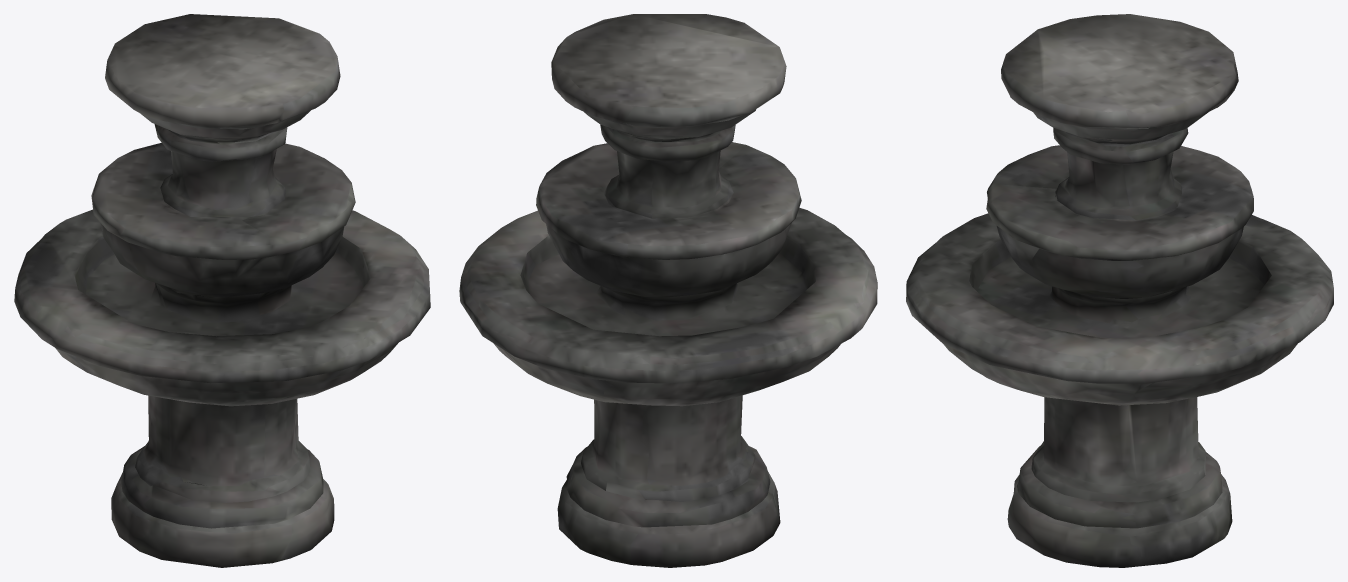
Rendered from weathered-granite-fountain-v001.glb.
3 renders of one model, left to right at view 1: azimuth 30°, elevation 25°; view 2: azimuth 150°, elevation 25°; view 3: azimuth 270°, elevation 25°, orthographic.
Visible parts, largest first — view 1: weathered-granite-fountain; view 2: weathered-granite-fountain; view 3: weathered-granite-fountain.
Boxes of the visible parts, bbox=[...] form: weathered-granite-fountain: bbox=[14, 14, 430, 567]; weathered-granite-fountain: bbox=[459, 14, 877, 567]; weathered-granite-fountain: bbox=[906, 14, 1333, 567].
Bounding box in the file's own units: 0.7441 × 0.9083 × 0.7639.
1 material, 1 textured.
